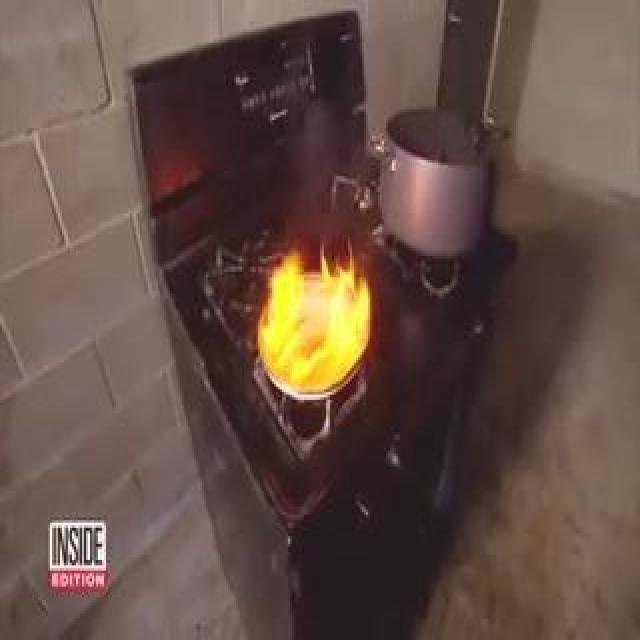Fire: (250, 181, 388, 408)
